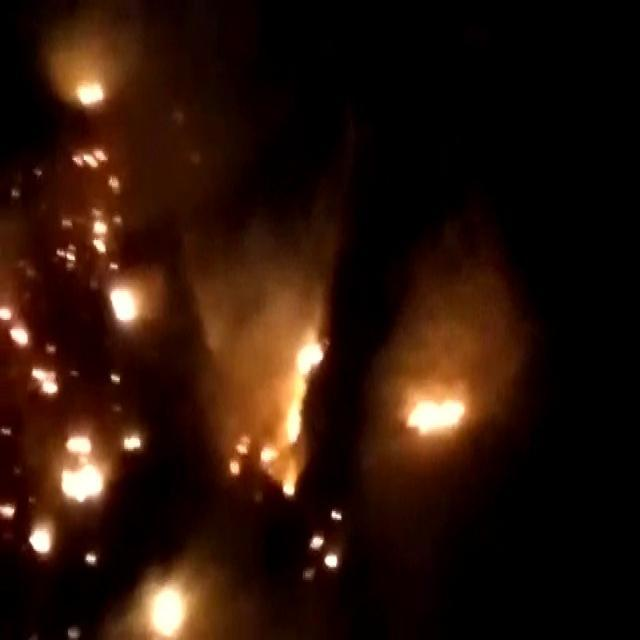Fire: (236, 334, 330, 484), (29, 427, 134, 551), (2, 309, 63, 400), (94, 212, 140, 326), (146, 572, 192, 640), (402, 391, 464, 436), (112, 283, 144, 326), (75, 72, 103, 106), (257, 434, 281, 468), (10, 322, 32, 350), (308, 535, 328, 553), (322, 554, 348, 566), (122, 438, 144, 450), (98, 145, 108, 167), (85, 148, 94, 171), (331, 509, 342, 526), (230, 466, 238, 480)
Smoke: (185, 155, 366, 298), (372, 200, 550, 342), (295, 116, 364, 314)
